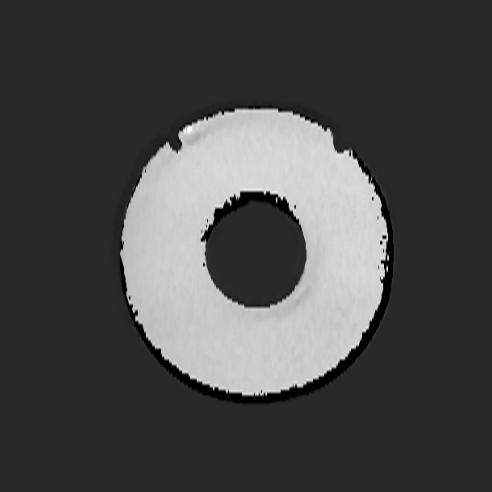defect: (332, 132, 351, 154), (167, 134, 182, 154)
